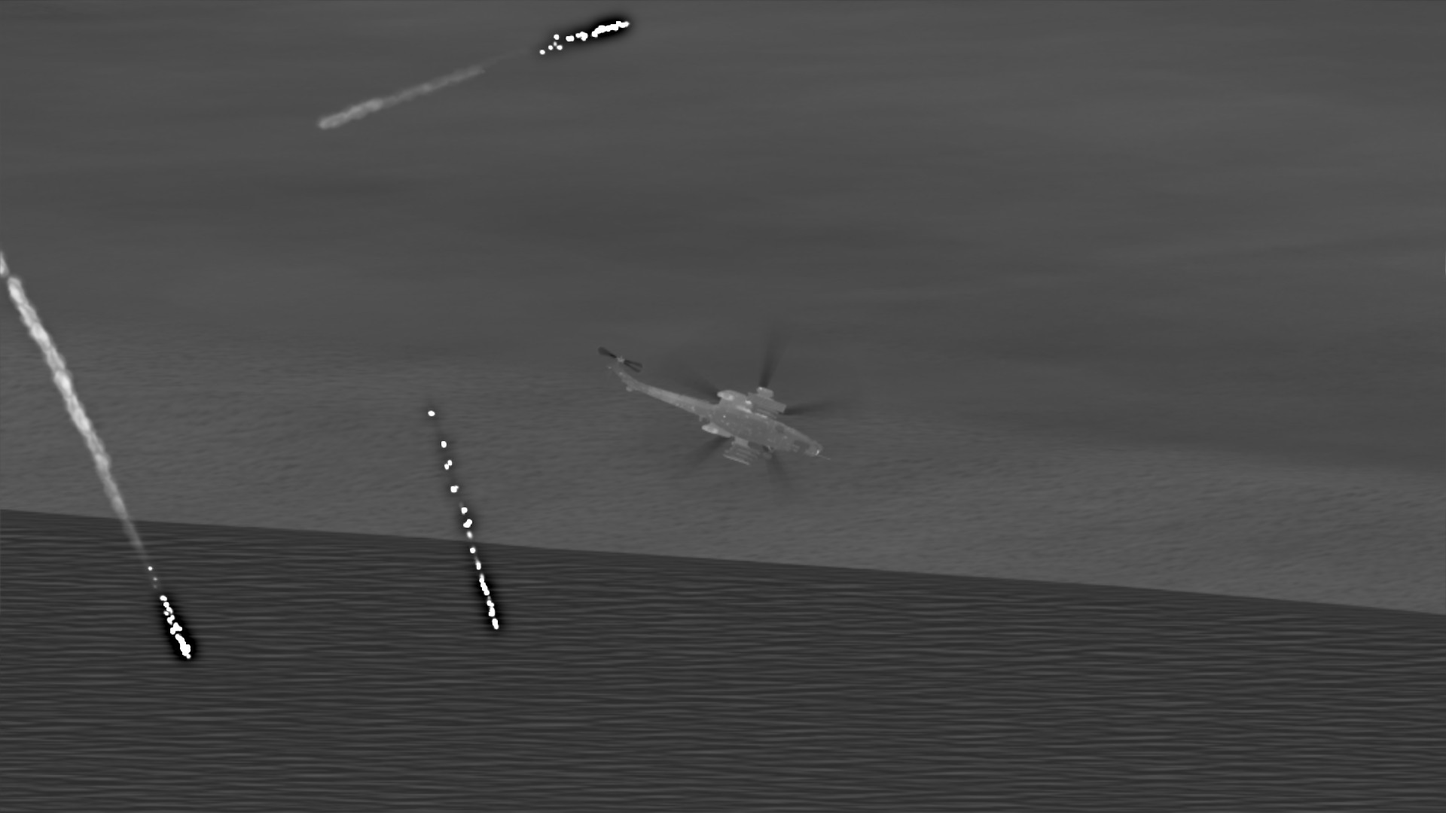mi28: (596, 343, 832, 467)
